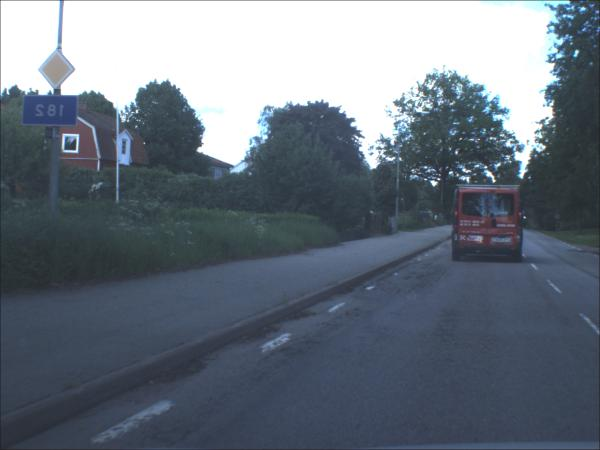PRIORITY_ROAD: (37, 50, 76, 91)
